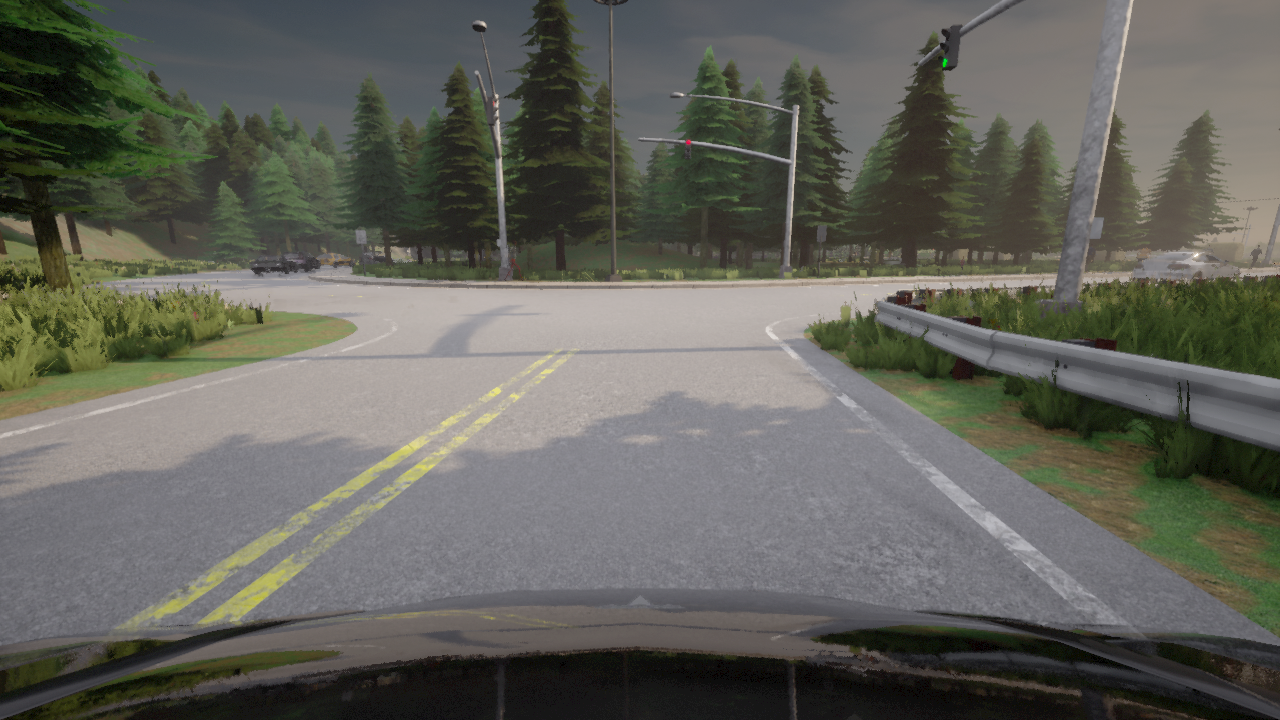cyclist: (0, 588, 1279, 719), (1131, 251, 1240, 280), (250, 255, 297, 274), (283, 251, 320, 271), (316, 252, 355, 268), (359, 252, 392, 264)
pedestrian: (503, 240, 526, 282), (1084, 243, 1097, 273), (1248, 245, 1262, 269), (1135, 243, 1150, 262), (956, 255, 966, 276), (1201, 244, 1214, 254), (1117, 256, 1125, 271)
